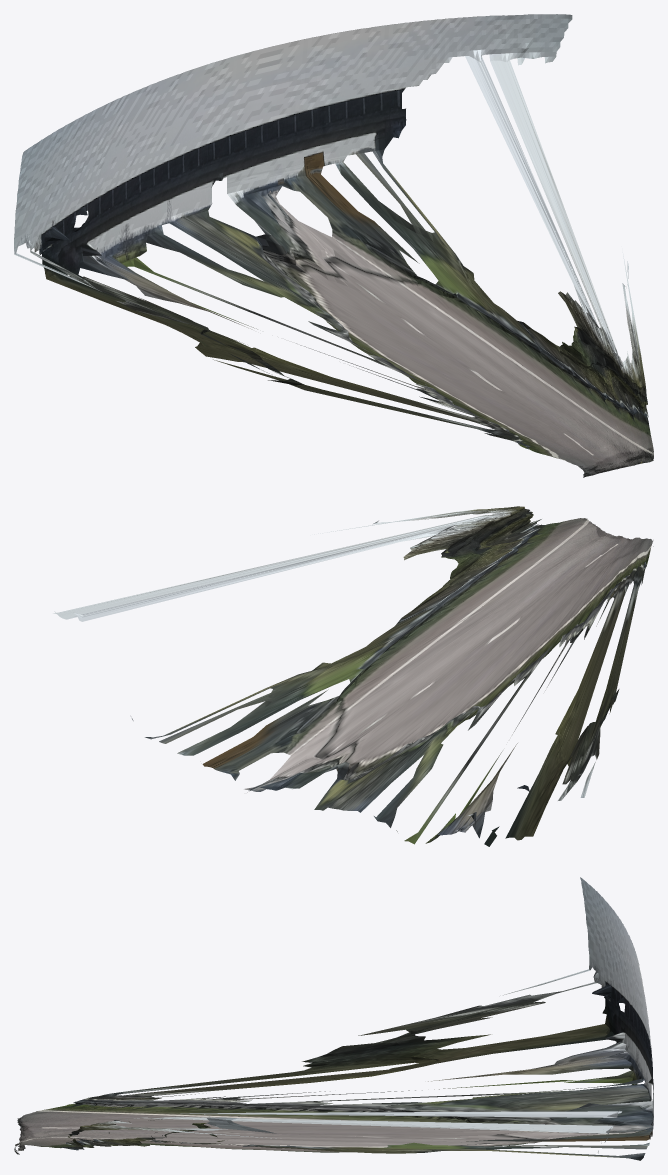
3 views of the same model, one above another, from view 1: azimuth 30°, elevation 25°; view 2: azimuth 150°, elevation 25°; view 3: azimuth 270°, elevation 25° (orthographic). The views are drawn at different scales.
Parts seen in each view (by area): view 1: defaultobject; view 2: defaultobject; view 3: defaultobject.
Part boxes in pixels (x1,y1,x2,y2): defaultobject: (14,14,653,477); defaultobject: (53,506,653,846); defaultobject: (14,877,653,1160).
Size of the model in its own units: 39.98 by 12.46 by 44.5.
Materials: 1 (1 with a texture image).
